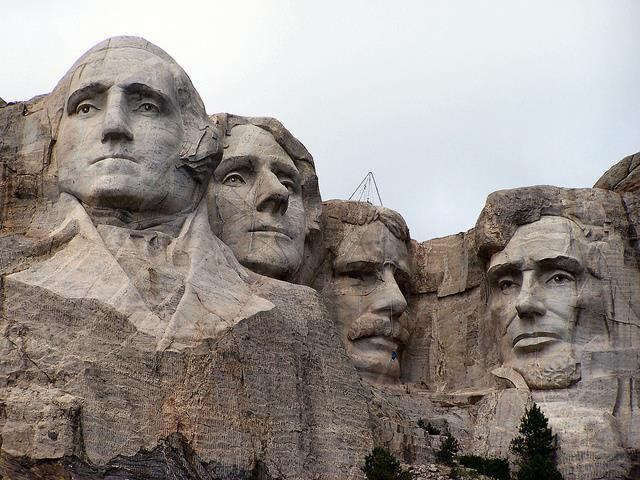Mount_Rushmore: (51, 29, 629, 395)
